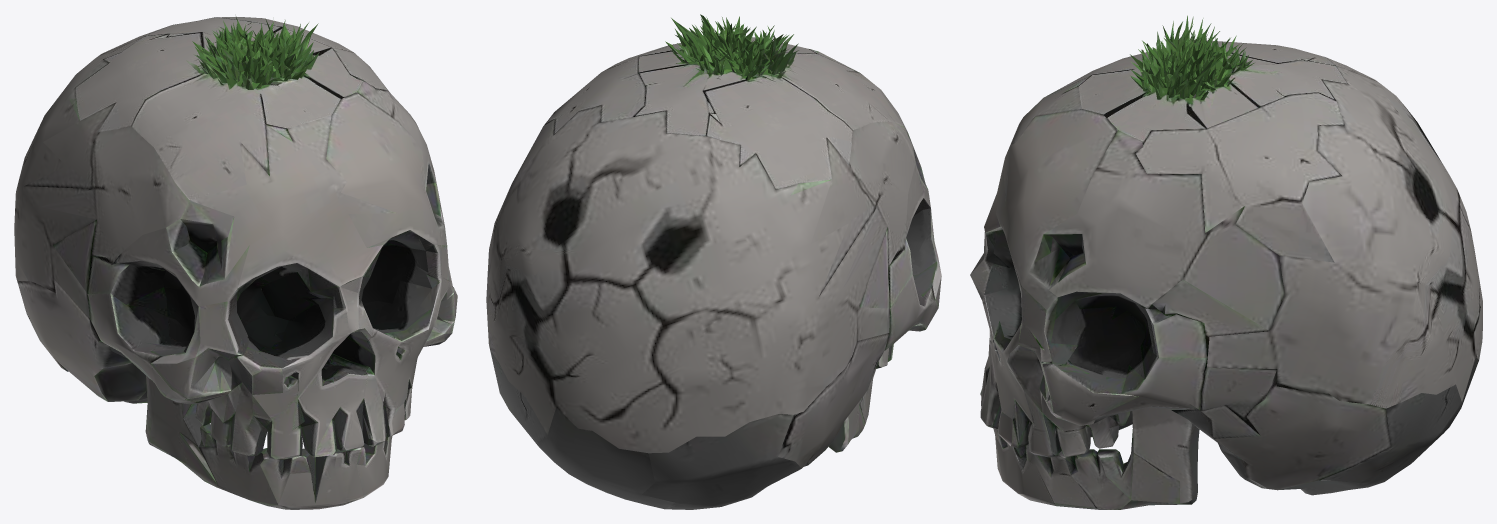
The model's file is skull.glb.
3 views of the same model, side by side, from view 1: azimuth 30°, elevation 25°; view 2: azimuth 150°, elevation 25°; view 3: azimuth 270°, elevation 25° (orthographic). The views are drawn at different scales.
Size of the model in its own units: 1.47 by 1.78 by 1.9.
Materials: 1 (1 with a texture image).
